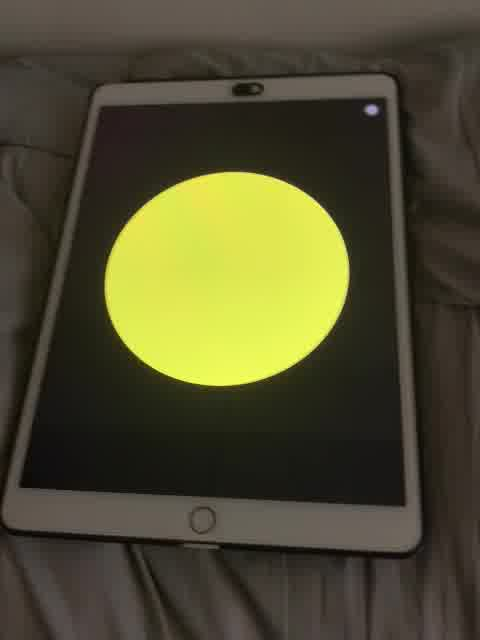left: (101, 164, 360, 393)
